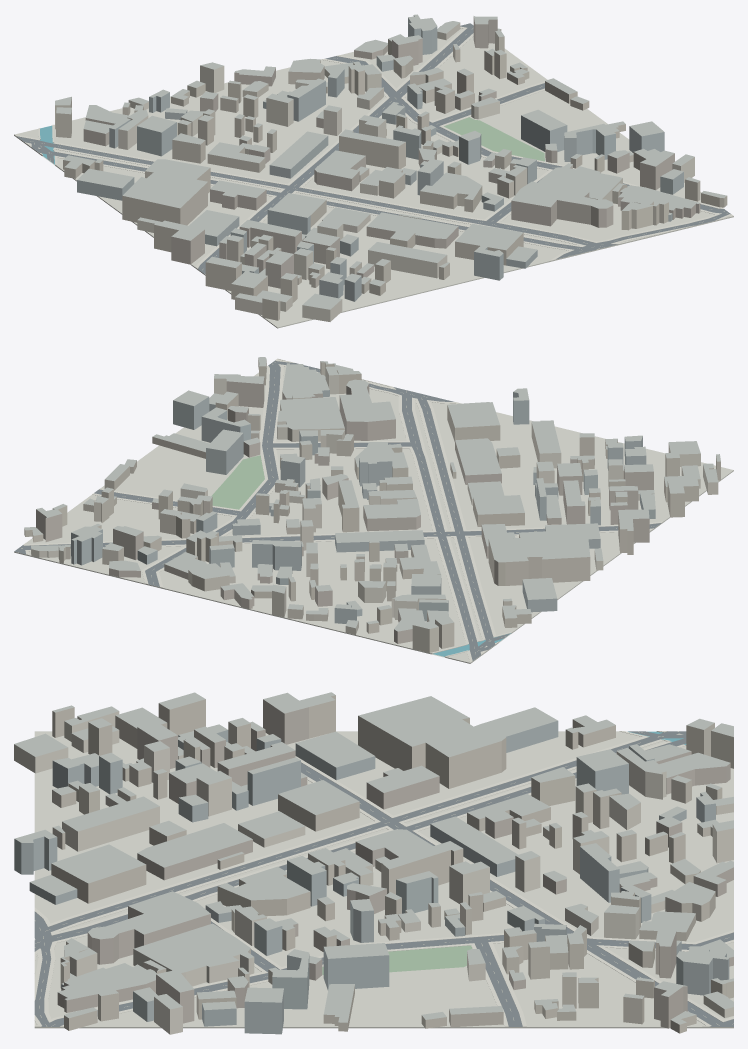
The picture shows the model from 3 angles, top to bottom: view 1: azimuth 30°, elevation 25°; view 2: azimuth 150°, elevation 25°; view 3: azimuth 270°, elevation 25°; orthographic projection. The views are drawn at different scales.
Parts seen in each view (by area): view 1: city; view 2: city; view 3: city.
Part boxes in pixels (<box>): city: <box>14,14,733,328</box>; city: <box>14,357,733,663</box>; city: <box>14,692,733,1034</box>.
Bounding box in the file's own units: 528 × 26 × 515.
